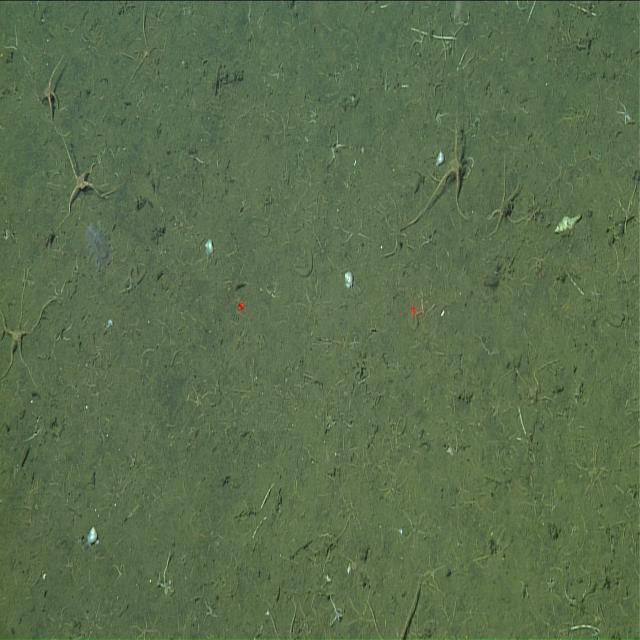Brittle Star: (408, 110, 484, 228), (0, 262, 63, 396), (52, 127, 118, 218), (28, 49, 72, 124), (570, 435, 616, 502), (485, 167, 524, 238), (130, 607, 162, 640)
Not Brittle Star: (80, 216, 118, 279), (552, 208, 584, 238)
